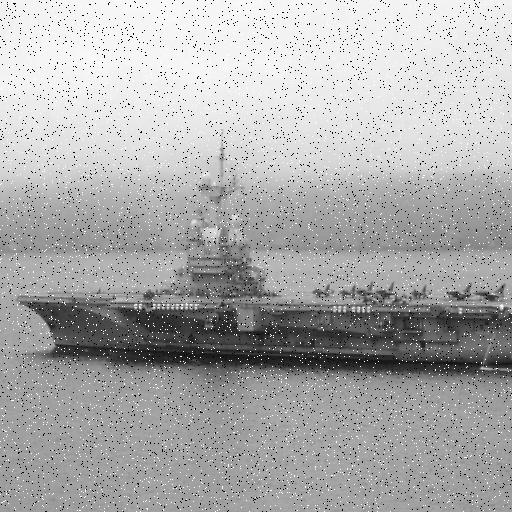Portanaves: (10, 126, 512, 377)
